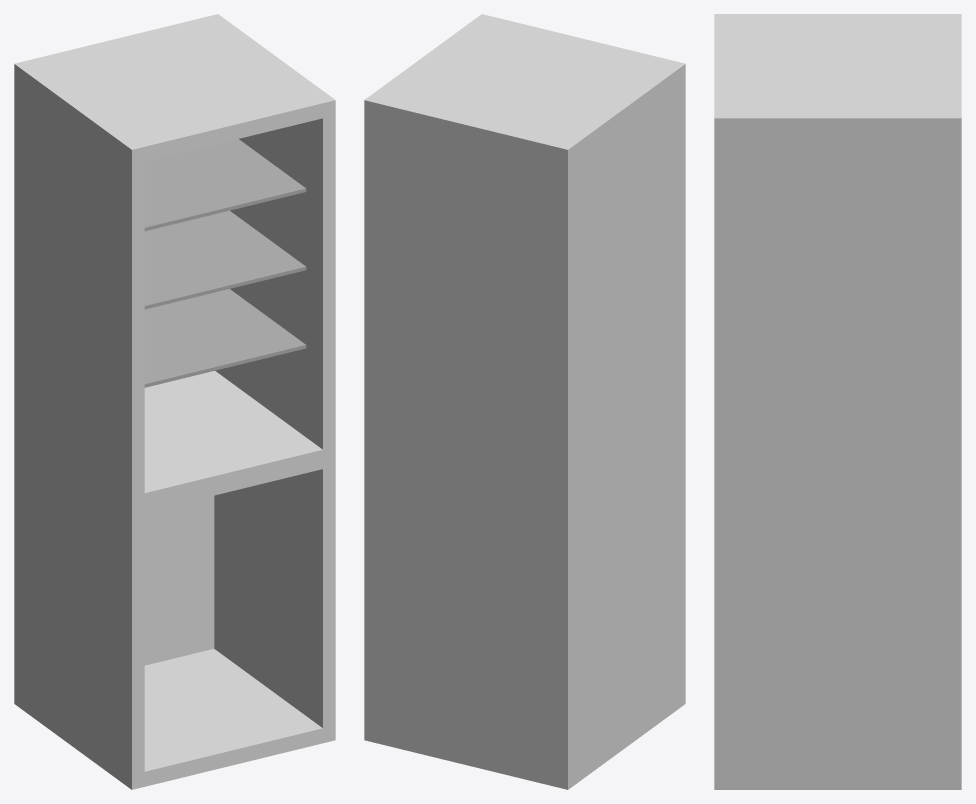
File: Refrigerator1_C1_01.fbx
3 views of the same model, side by side, from view 1: azimuth 30°, elevation 25°; view 2: azimuth 150°, elevation 25°; view 3: azimuth 270°, elevation 25° (orthographic). The views are drawn at different scales.
Parts seen in each view (by area): view 1: Refrigerator1_C1_01; view 2: Refrigerator1_C1_01; view 3: Refrigerator1_C1_01.
Boxes of the visible parts, box(x1,y1,x2,y2) form: Refrigerator1_C1_01: box(14, 14, 335, 789); Refrigerator1_C1_01: box(364, 14, 685, 789); Refrigerator1_C1_01: box(714, 14, 961, 789).
Size of the model in its own units: 60 by 180 by 60.
